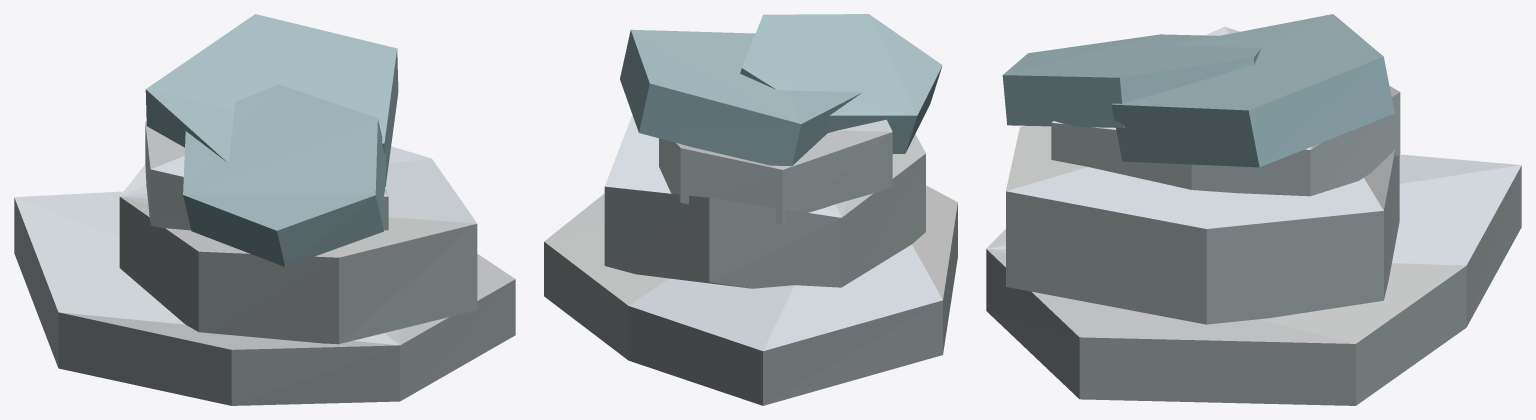
The model's file is rock.floe__outcrop__autumn.glb.
3 views of the same model, side by side, from view 1: azimuth 30°, elevation 25°; view 2: azimuth 150°, elevation 25°; view 3: azimuth 270°, elevation 25° (orthographic). The views are drawn at different scales.
Parts seen in each view (by area): view 1: rock.floe; view 2: rock.floe; view 3: rock.floe.
Part boxes in pixels (bbox=[...]): rock.floe: bbox=[14, 14, 515, 405]; rock.floe: bbox=[544, 14, 957, 405]; rock.floe: bbox=[986, 14, 1521, 405].
Size of the model in its own units: 1.83 by 1.21 by 2.06.
